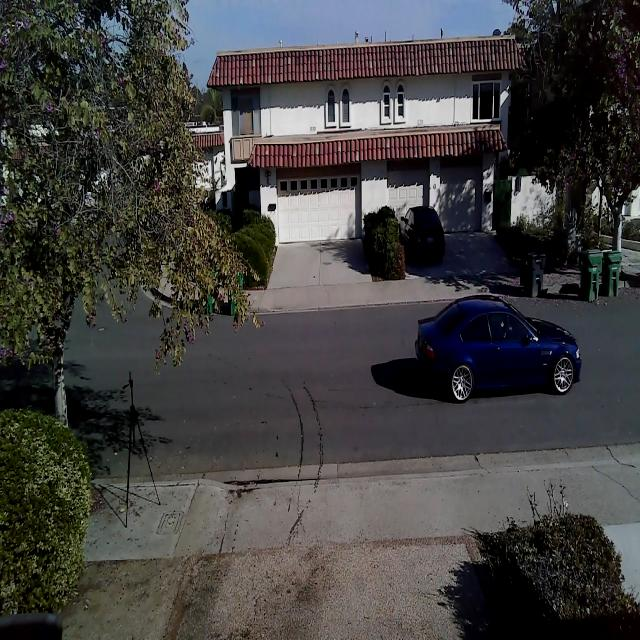Carbeetle: (409, 288, 583, 409)
Civilian: (397, 206, 445, 264)
